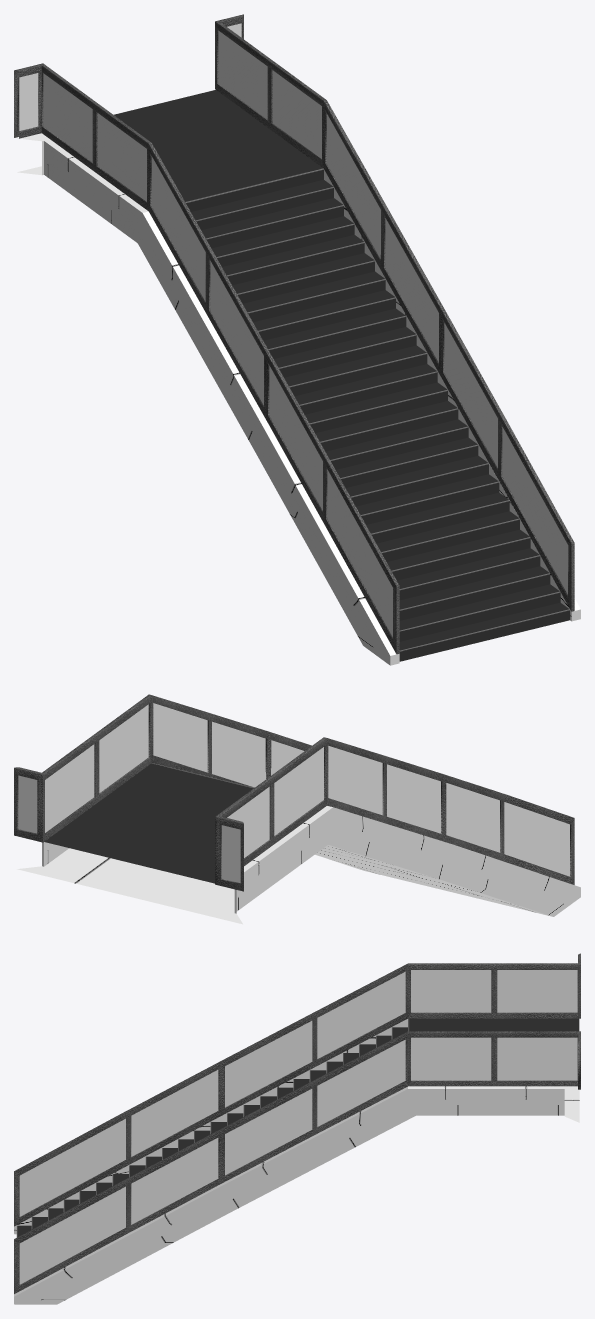
File: Stairs04_265x950cm.FBX
3 views of the same model, one above another, from view 1: azimuth 30°, elevation 25°; view 2: azimuth 150°, elevation 25°; view 3: azimuth 270°, elevation 25° (orthographic). The views are drawn at different scales.
Parts seen in each view (by area): view 1: Stairs, Parapet; view 2: Parapet, Stairs; view 3: Parapet, Stairs.
Boxes of the visible parts, box(x1,y1,x2,y2) form: Stairs: box(114, 90, 569, 661); Parapet: box(14, 14, 580, 665); Parapet: box(14, 694, 580, 924); Stairs: box(44, 763, 253, 883); Parapet: box(14, 953, 580, 1304); Stairs: box(16, 1018, 579, 1237).
Size of the model in its own units: 355 by 500 by 953.
